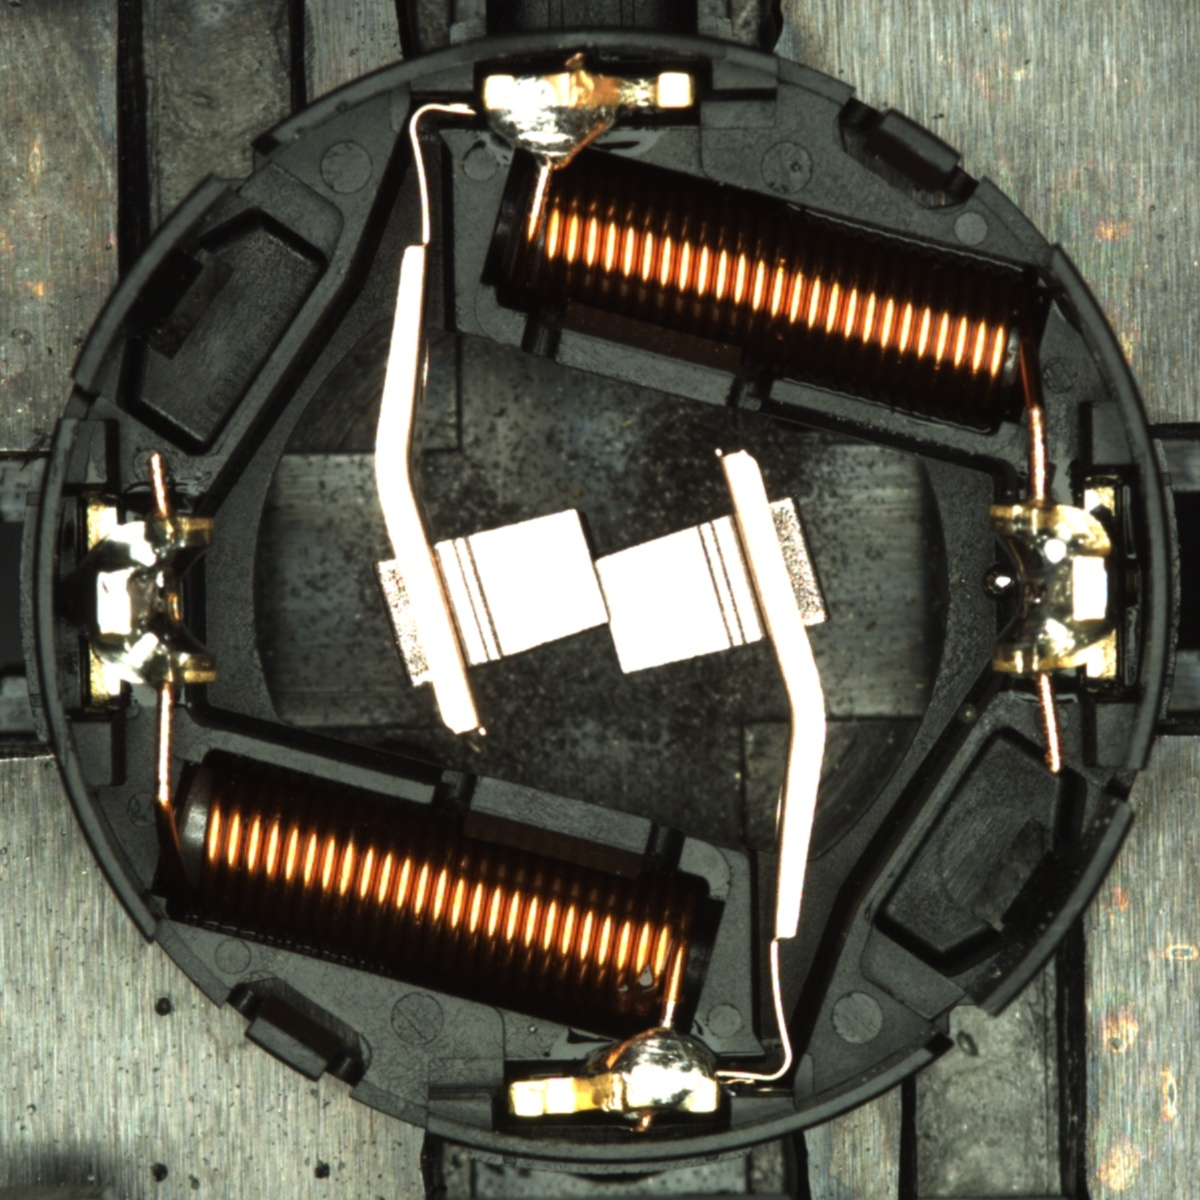1: (255, 30, 485, 254), (713, 927, 943, 1152)
2: (713, 30, 943, 254), (255, 927, 485, 1152)
3: (943, 702, 1173, 927), (26, 254, 255, 478)
4: (713, 702, 943, 927), (255, 254, 485, 478)
5: (485, 142, 713, 366), (485, 815, 713, 1040)
6: (255, 702, 485, 927), (713, 254, 943, 478)
7: (26, 702, 255, 927), (943, 254, 1173, 478)
cacbon: (398, 497, 800, 684)
chau_dien: (80, 498, 221, 700), (984, 485, 1123, 684)
hat_chi: (981, 564, 1018, 601)
tay_choi: (481, 68, 698, 173), (505, 1024, 722, 1120)
thanh_de: (955, 784, 1143, 1032), (59, 164, 245, 405)
